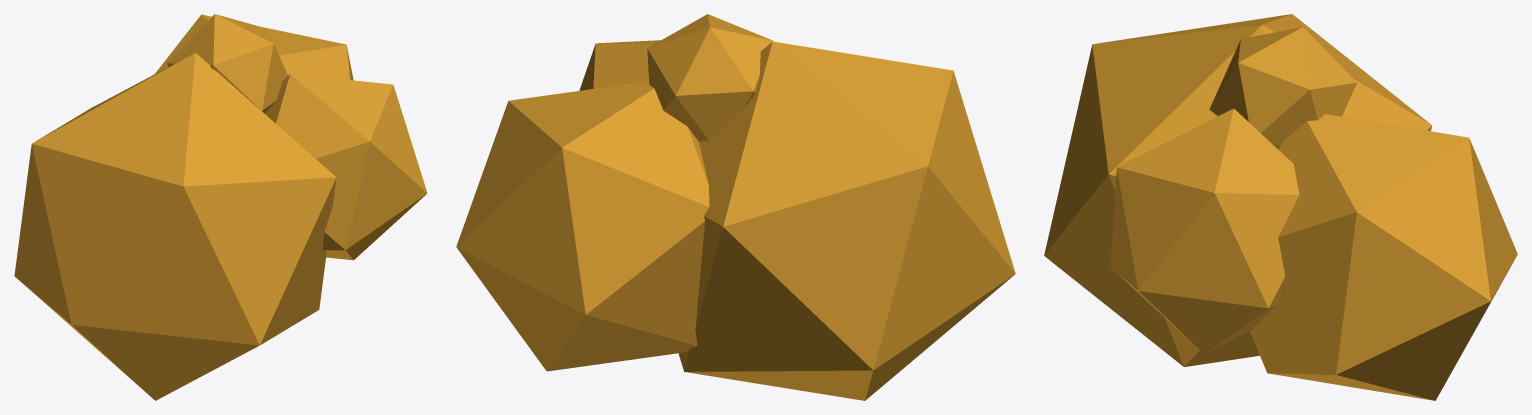
File: rock_2.fbx
The picture shows the model from 3 angles, left to right: view 1: azimuth 30°, elevation 25°; view 2: azimuth 150°, elevation 25°; view 3: azimuth 270°, elevation 25°; orthographic projection. The views are drawn at different scales.
Visible parts, largest first — view 1: rock_2, BUSH.003, BUSH.004, BUSH.002; view 2: rock_2, BUSH.002, BUSH.004, BUSH.003; view 3: BUSH.002, rock_2, BUSH.003, BUSH.004.
Boxes of the visible parts, x1,y1,x2,y2 form: rock_2: (14,52,336,400); BUSH.003: (265,74,427,260); BUSH.004: (167,14,288,113); BUSH.002: (155,14,353,80); rock_2: (678,41,1015,400); BUSH.002: (456,81,709,371); BUSH.004: (647,14,773,141); BUSH.003: (579,40,660,90); BUSH.002: (1250,114,1517,400); rock_2: (1044,14,1432,366); BUSH.003: (1110,108,1299,353); BUSH.004: (1209,27,1356,149).
Bounding box in the file's own units: 4.09 × 3.45 × 3.85.
